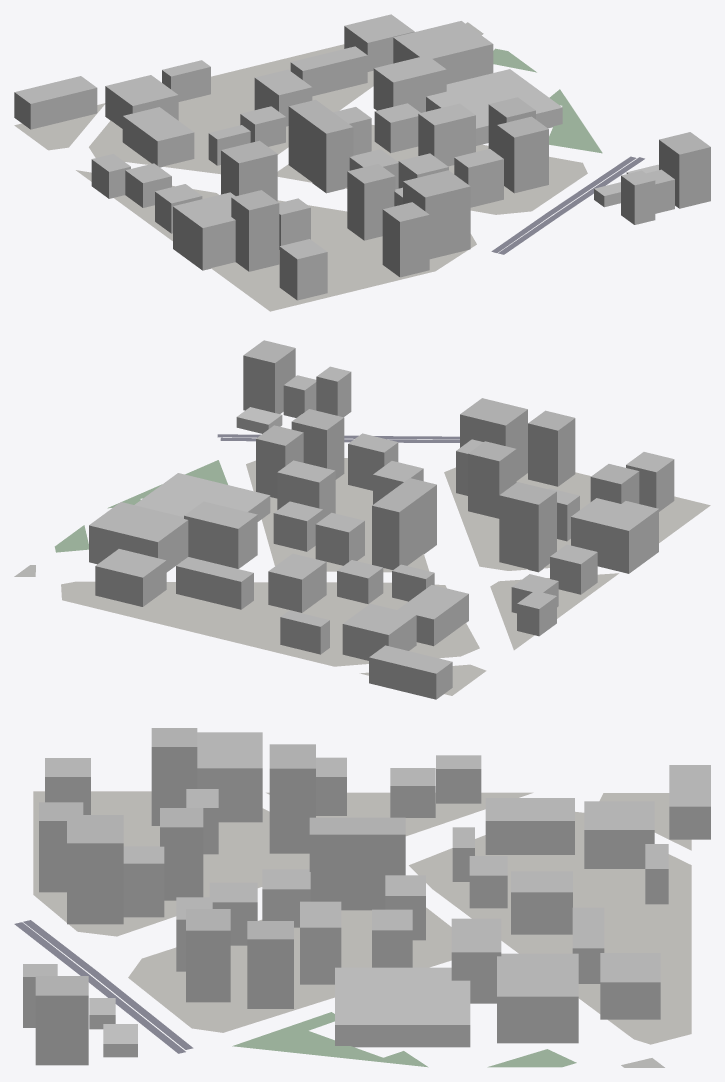
File: 129_96_mid.glb
The picture shows the model from 3 angles, top to bottom: view 1: azimuth 30°, elevation 25°; view 2: azimuth 150°, elevation 25°; view 3: azimuth 270°, elevation 25°; orthographic projection. The views are drawn at different scales.
Bounding box in the file's own units: 509 × 72.67 × 530.
